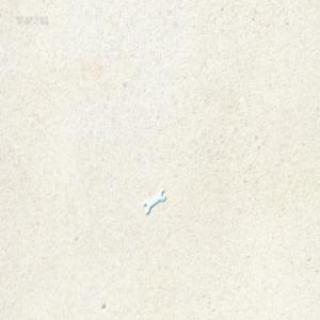Wrenchtrack_idkeyframe: (142, 187, 165, 215)
